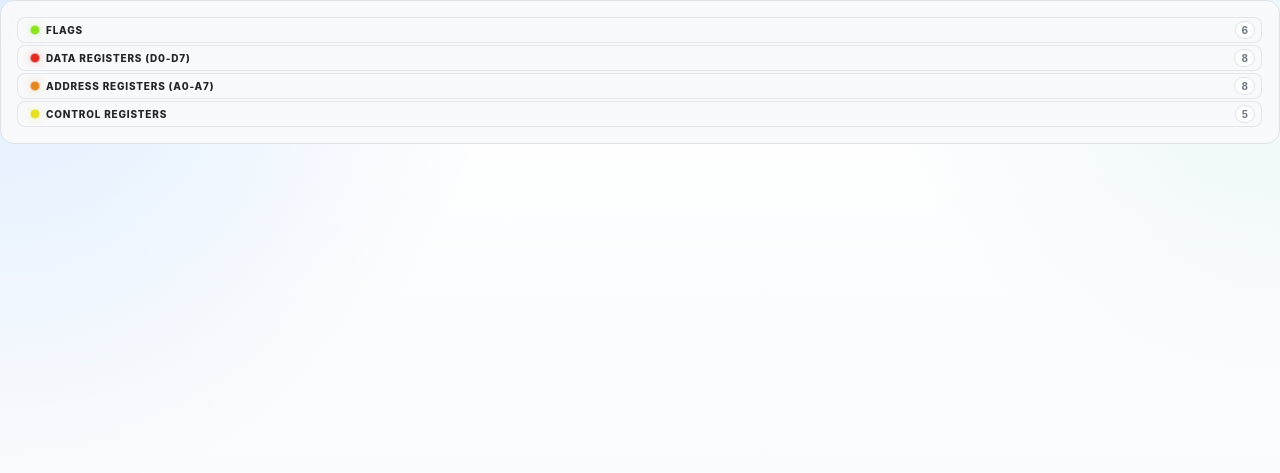
Test: Registers › allows a middle hex nibble to be selected and edited directly
The image size is (1280, 473).
Click the button "Data Registers (D0-D7) 8". click: point(118, 58)
box: x1=17 y1=45 x2=1262 y2=71
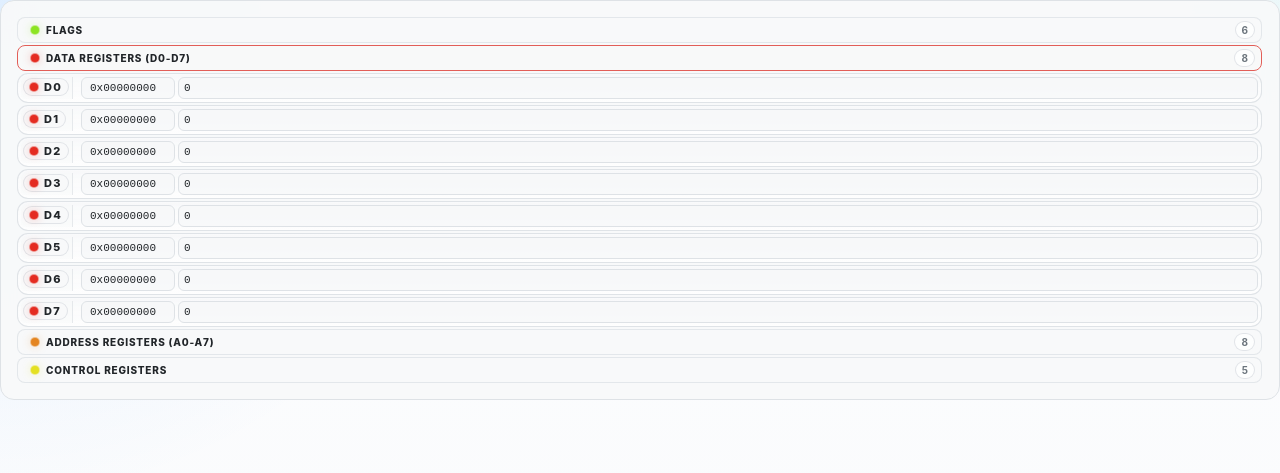
Click the button named "Toggle D0 register view". click: point(46, 87)
box: x1=23 y1=78 x2=69 y2=96
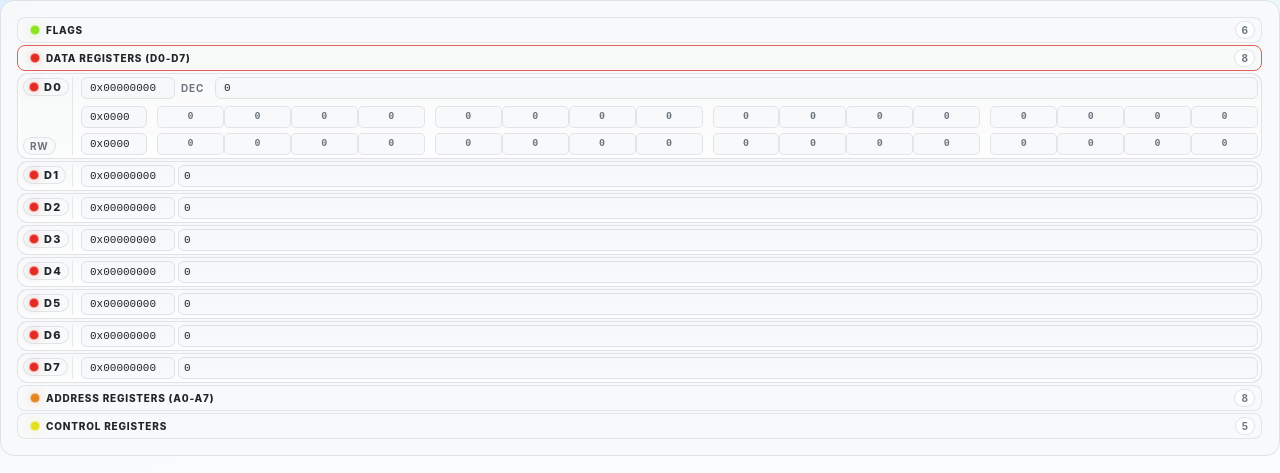
Focus the field named "D0 row 2 hex input". click: point(114, 144)
box: x1=81 y1=133 x2=147 y2=155
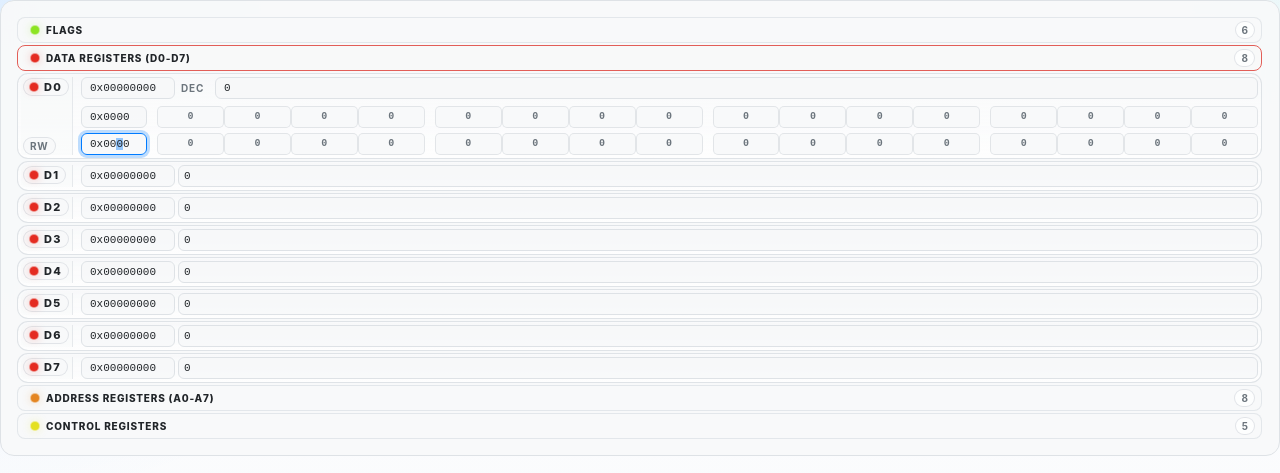
Press A in the field named "D0 row 2 hex input", box x1=81 y1=133 x2=147 y2=155
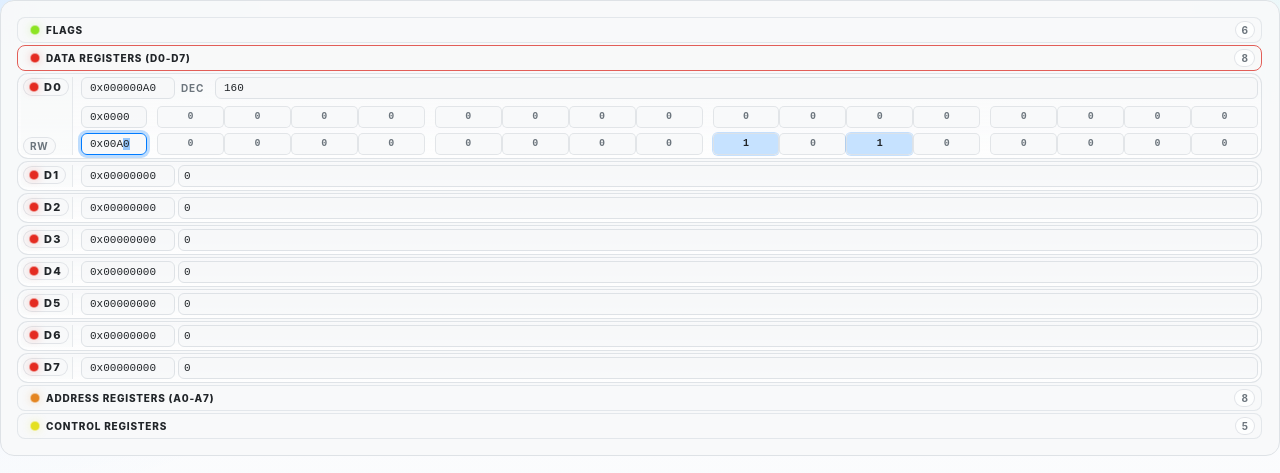
Expected: the field named "D0 row 2 hex input" holds "0x00A0", x1=81 y1=133 x2=147 y2=155
